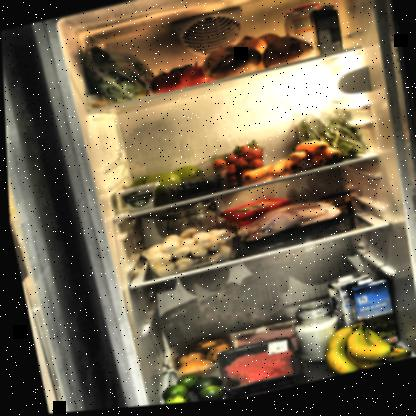apple: (125, 163, 208, 208)
banana: (316, 321, 414, 382)
blueberries: (162, 171, 225, 204)
butter: (215, 197, 294, 243)
carrot: (281, 136, 347, 179), (235, 163, 286, 189)
chicken: (223, 193, 348, 261)
corn: (316, 195, 354, 229)
green_beans: (282, 98, 365, 176)
ground_beef: (209, 336, 306, 402)
heavy_cream: (307, 6, 345, 62)
lime: (152, 368, 221, 406)
milk: (343, 276, 404, 365), (324, 274, 379, 355)
mushrooms: (135, 225, 232, 282)
onion: (232, 31, 284, 63)
potato: (160, 332, 234, 384)
spinach: (70, 22, 159, 118)
strawberries: (207, 144, 265, 186)
sweet_potato: (199, 31, 317, 89)
tomato: (146, 63, 212, 98)
